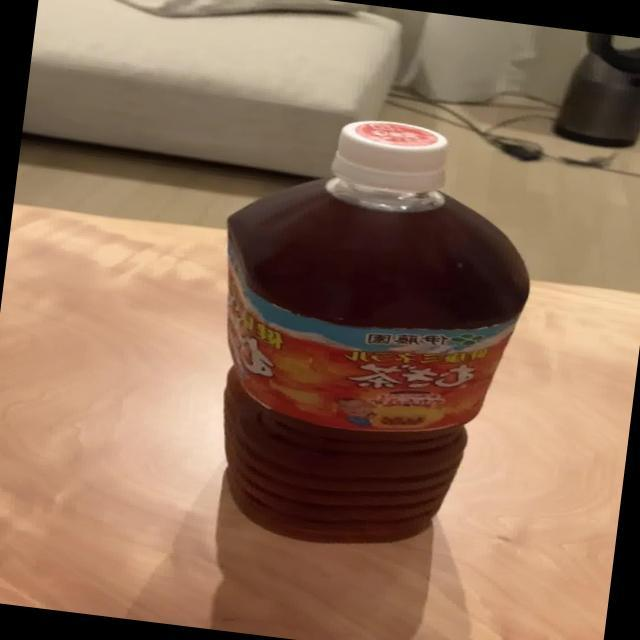good: (190, 102, 547, 560)
